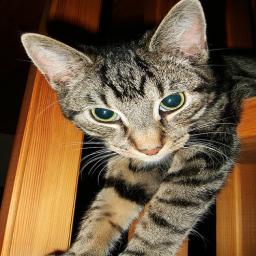catnose: (137, 146, 164, 156)
